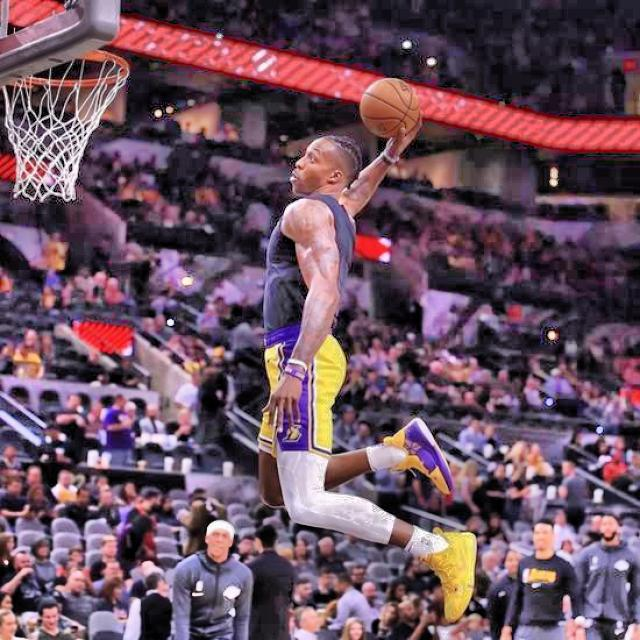board: (360, 78, 420, 141)
rim: (5, 48, 129, 200)
